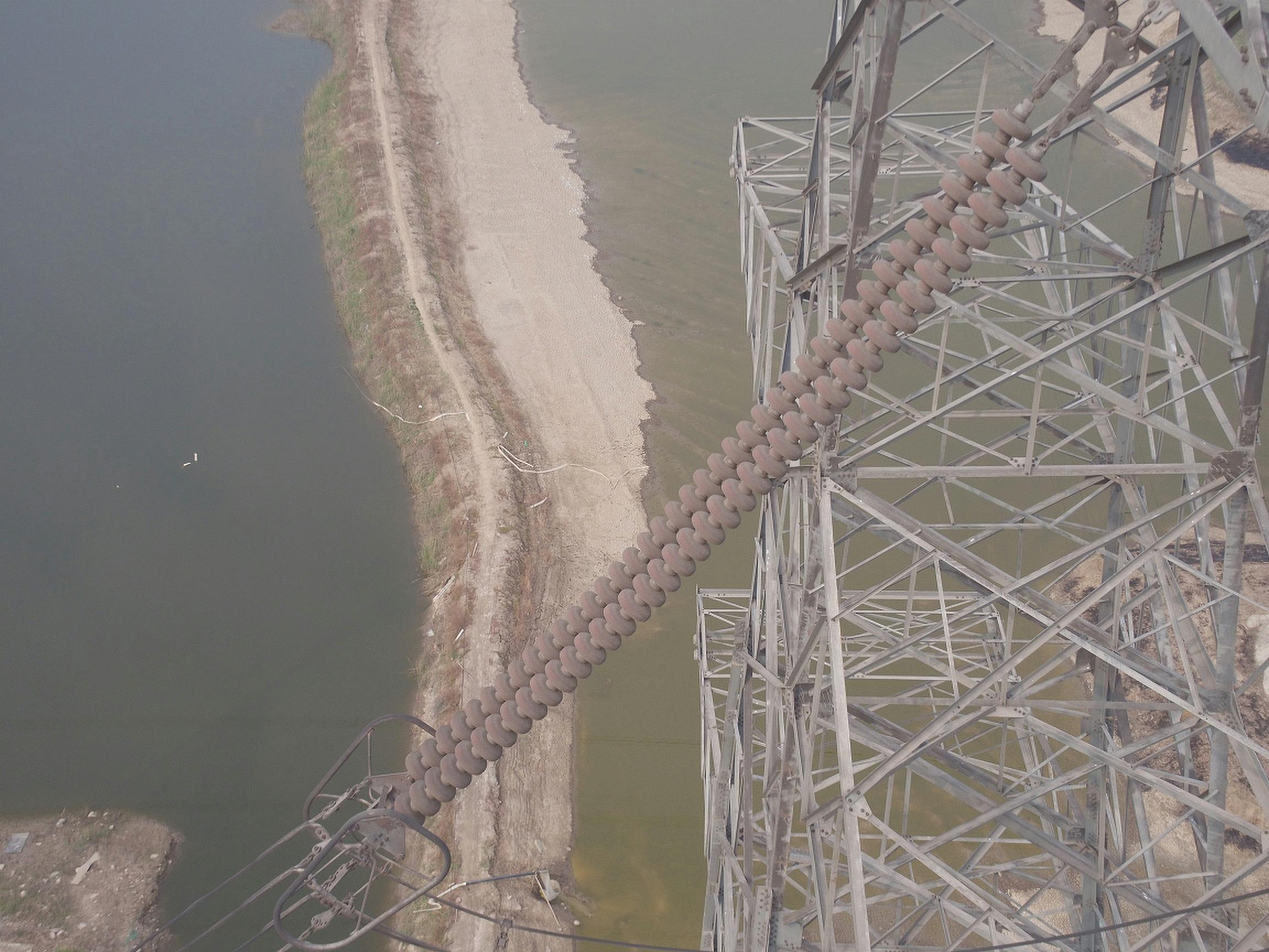insulator: (387, 102, 1054, 834)
